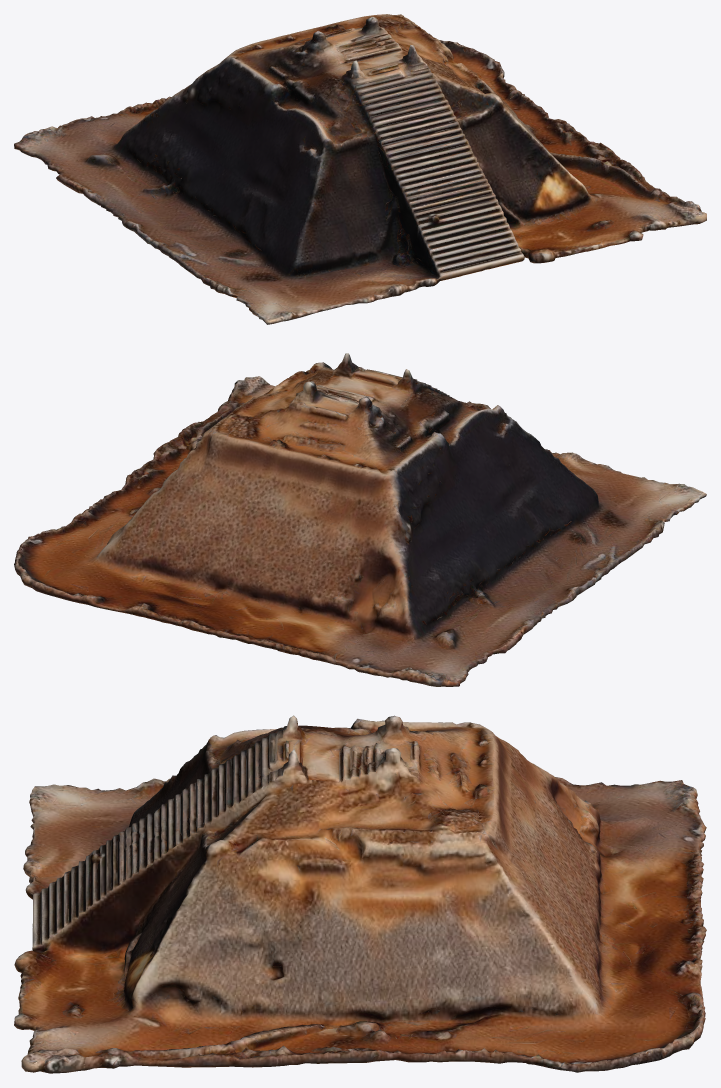
The model's file is Ancient_Pyramid_Ruins_final.glb.
3 views of the same model, one above another, from view 1: azimuth 30°, elevation 25°; view 2: azimuth 150°, elevation 25°; view 3: azimuth 270°, elevation 25° (orthographic). The views are drawn at different scales.
Parts seen in each view (by area): view 1: Mesh_0; view 2: Mesh_0; view 3: Mesh_0.
Part boxes in pixels (x1,y1,x2,y2): Mesh_0: [14, 14, 706, 324]; Mesh_0: [14, 353, 706, 686]; Mesh_0: [14, 715, 706, 1073].
Bounding box in the file's own units: 18.53 × 6 × 18.62.
Materials: 1 (1 with a texture image).
